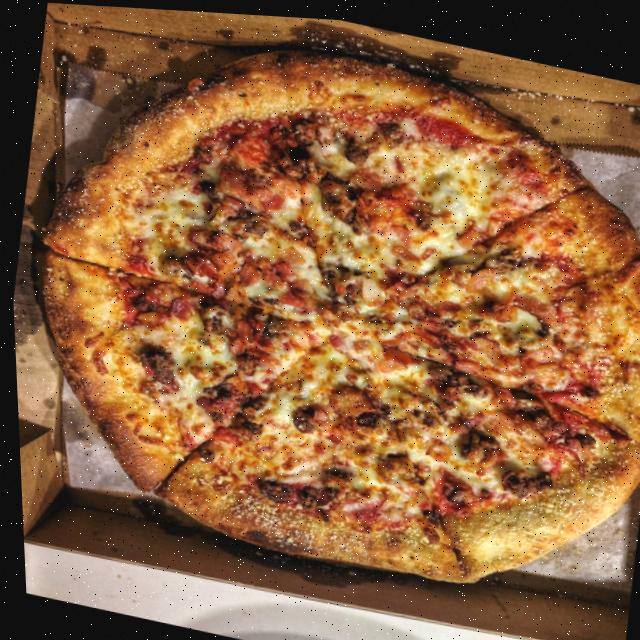pizza: (0, 0, 640, 621)
